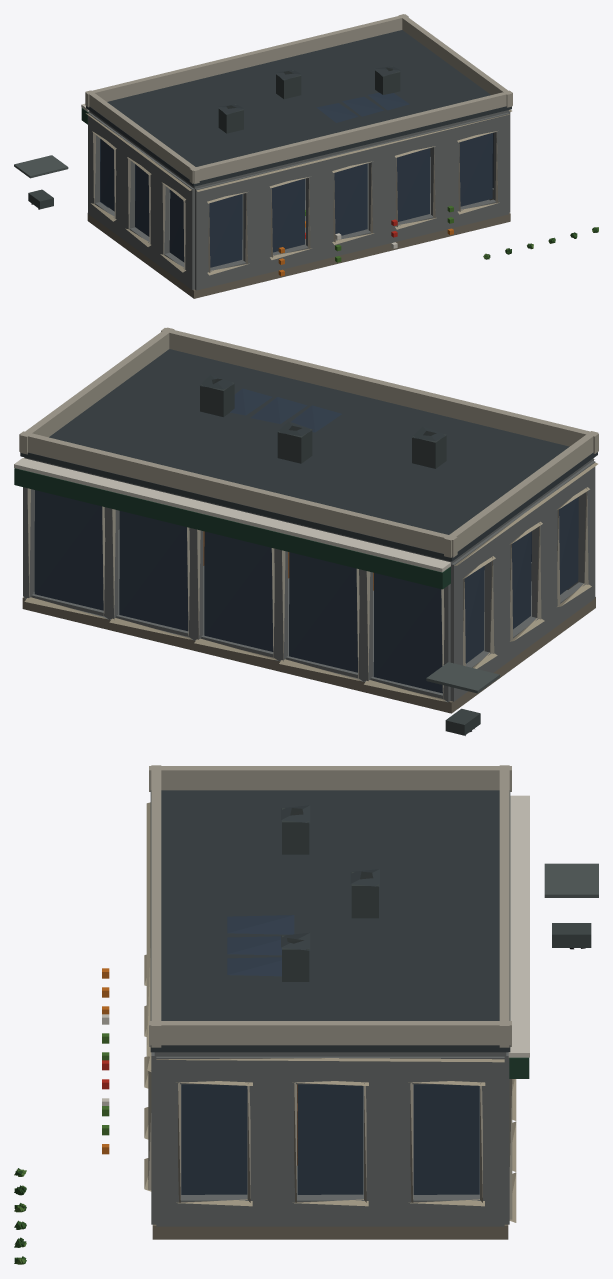
File: shop_supermarket.glb
3 renders of one model, top to bottom at view 1: azimuth 30°, elevation 25°; view 2: azimuth 150°, elevation 25°; view 3: azimuth 270°, elevation 25°, orthographic. The views are drawn at different scales.
Size of the model in its own units: 7.36 by 2.41 by 5.42.
